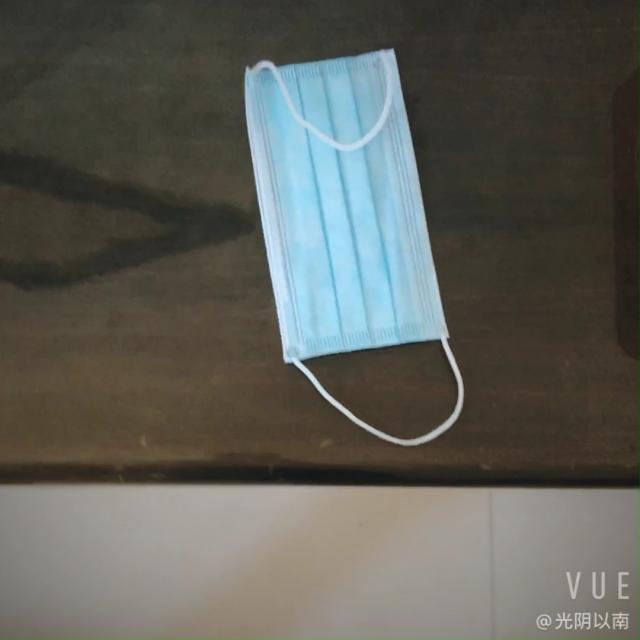face mask: (228, 34, 443, 374)
